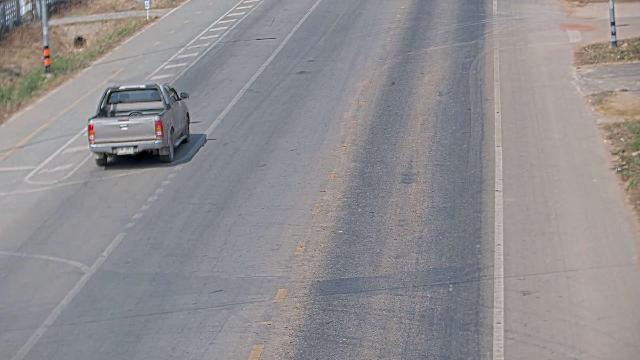pickup-truck: (86, 82, 191, 167)
